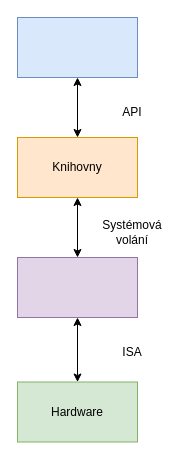
The diagram is 195 pixels wide and 460 high, and some of its shapes have lost their labels. The shapes that lost their labels are listed below. From the top down, each one's centre as x and y in pixels, then its label:
pixel 77 47: Aplikace
pixel 77 287: Operační systém
